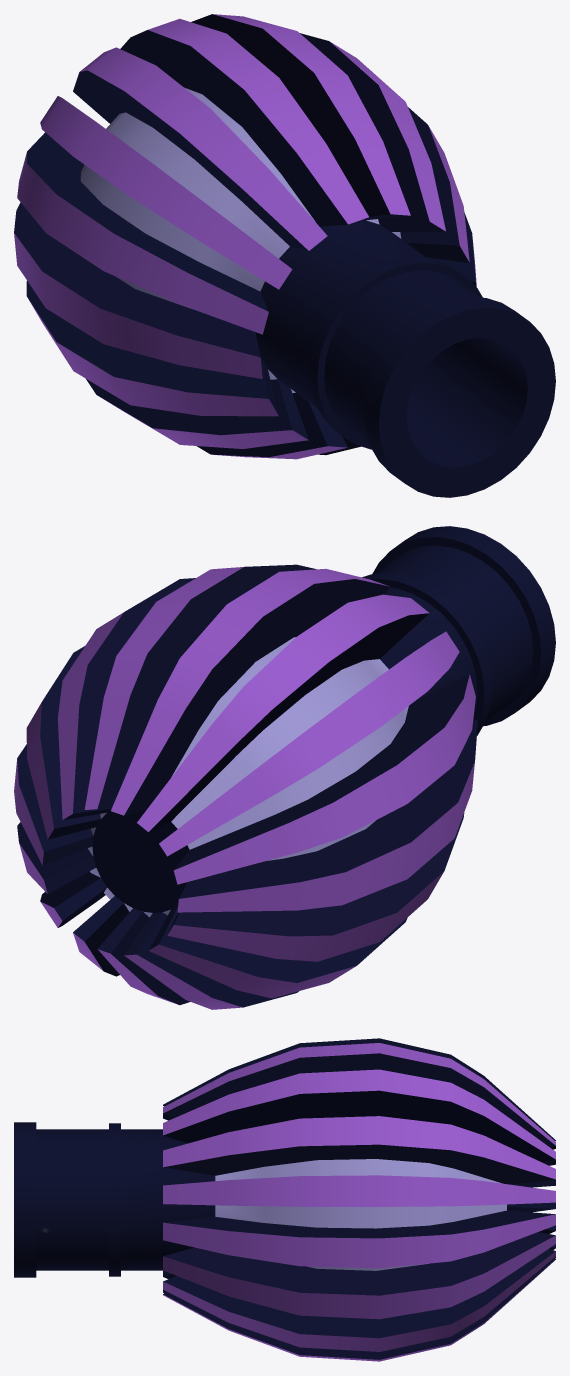
Rendered from Cannon.fbx.
3 views of the same model, one above another, from view 1: azimuth 30°, elevation 25°; view 2: azimuth 150°, elevation 25°; view 3: azimuth 270°, elevation 25° (orthographic). The views are drawn at different scales.
Parts seen in each view (by area): view 1: Cannon; view 2: Cannon; view 3: Cannon.
Part boxes in pixels (x1,y1,x2,y2): Cannon: [14, 14, 555, 497]; Cannon: [14, 526, 555, 1009]; Cannon: [14, 1038, 555, 1361].
Bounding box in the file's own units: 2.04 × 2.04 × 3.42.
